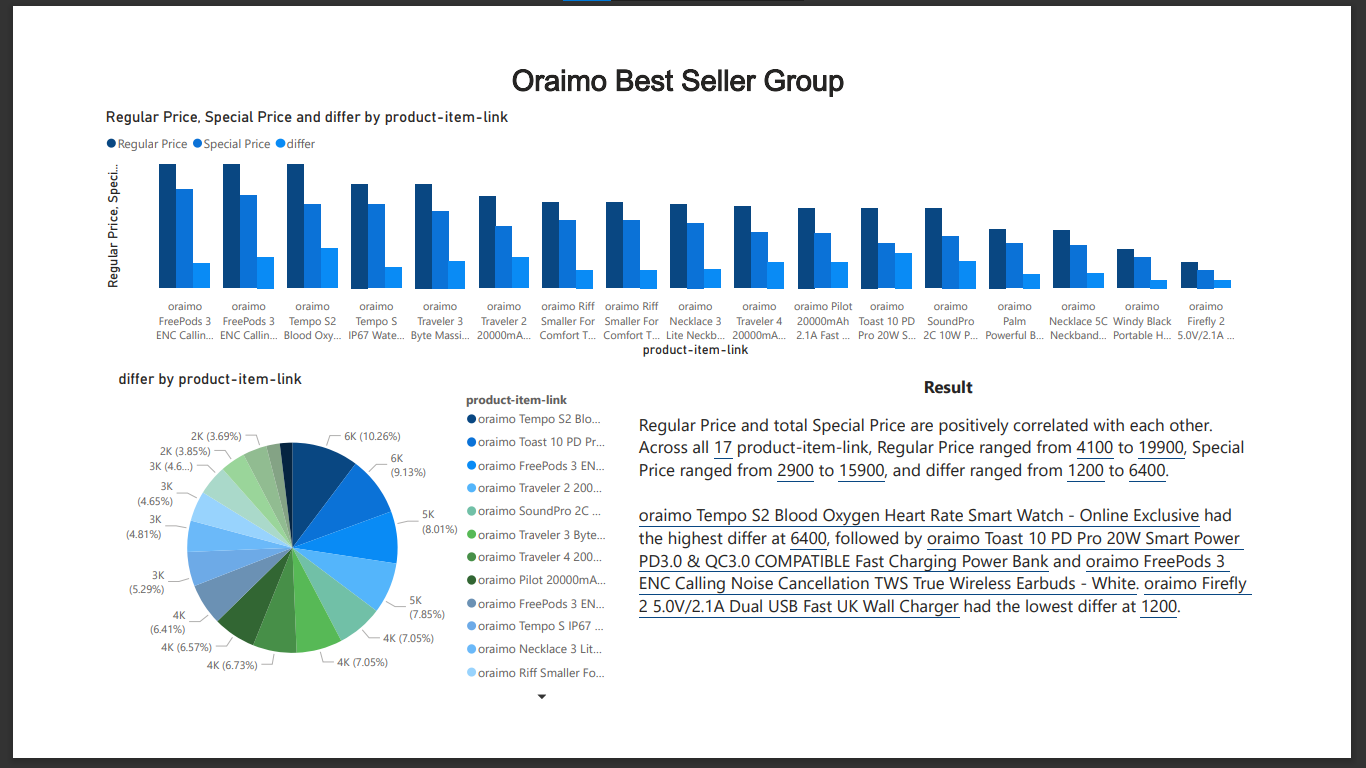

This screenshot's page, from the dashboard's own definition file:
{"tool":"powerbi","page":{"name":"Page 1","canvas":[1280,720],"ordinal":0},"visuals":[{"type":"textbox","box":[0,0,1280,57.1],"z":0},{"type":"pieChart","fields":{"Category":["Best Seller.product-item-link"],"Y":["Sum(Best Seller.differ)"]},"box":[14.1,346.6,558,373.4],"z":2},{"type":"lineClusteredColumnComboChart","fields":{"Category":["Best Seller.product-item-link"],"Y":["Sum(Best Seller.Regular Price)","Sum(Best Seller.Special Price)","Sum(Best Seller.differ)"]},"box":[0,57.8,1279.4,279],"z":3},{"type":"textbox","box":[587.6,346.6,691.8,373.4],"z":4}]}

Visuals, with their boxes in screenshot pixels (x1, y1, x2, y2), scaled from the page's 1280x720 canvas onto the 1366x768 screenshot:
textbox: (0,0,1365,61)
pieChart - Best Seller.product-item-link x Sum(Best Seller.differ): (15,370,611,767)
lineClusteredColumnComboChart - Best Seller.product-item-link x Sum(Best Seller.Regular Price): (0,62,1365,359)
textbox: (627,370,1365,767)
